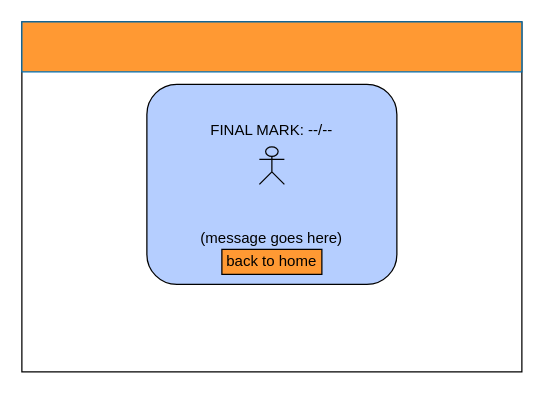
This 544x394 diagram has some shape labels left out. Here are the shapes that lost their labels. From the top down, the centre of each, then its label:
point (271, 46): Can you do math?
point (271, 165): Actor
